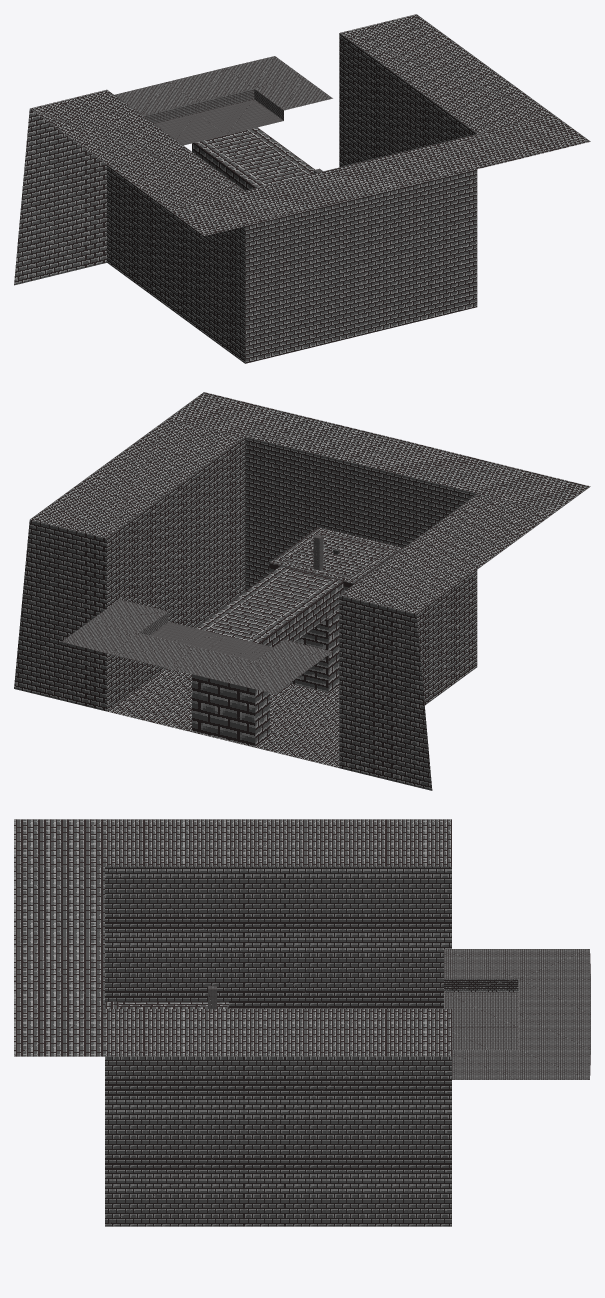
Rendered from pixel_assets2.glb.
The picture shows the model from 3 angles, top to bottom: view 1: azimuth 30°, elevation 25°; view 2: azimuth 150°, elevation 25°; view 3: azimuth 270°, elevation 25°; orthographic projection. The views are drawn at different scales.
Visible parts, largest first — view 1: Terrain1, Ground2, Bridge_Walkable, Ground2_Walkable, Bridge; view 2: Terrain1, Ground2, Bridge, Bridge_Walkable, Ground1_Walkable, Ground2_Walkable; view 3: Terrain1, Ground2, Ground2_Walkable, Ground1_Walkable.
Part boxes in pixels (x1=…): Terrain1: x1=14, y1=14, x2=590, y2=363; Ground2: x1=114, y1=56, x2=332, y2=123; Bridge_Walkable: x1=194, y1=127, x2=314, y2=187; Ground2_Walkable: x1=154, y1=99, x2=283, y2=145; Bridge: x1=192, y1=143, x2=255, y2=190; Terrain1: x1=14, y1=392, x2=590, y2=790; Ground2: x1=62, y1=599, x2=332, y2=693; Bridge: x1=192, y1=582, x2=343, y2=746; Bridge_Walkable: x1=195, y1=566, x2=342, y2=643; Ground1_Walkable: x1=270, y1=527, x2=402, y2=583; Ground2_Walkable: x1=150, y1=622, x2=272, y2=661; Terrain1: x1=14, y1=819, x2=451, y2=1226; Ground2: x1=444, y1=949, x2=590, y2=1079; Ground2_Walkable: x1=444, y1=992, x2=518, y2=1049; Ground1_Walkable: x1=105, y1=1001, x2=228, y2=1008.
Bounding box in the file's own units: 189 × 74.82 × 180.
Materials: 3 (3 with a texture image).
